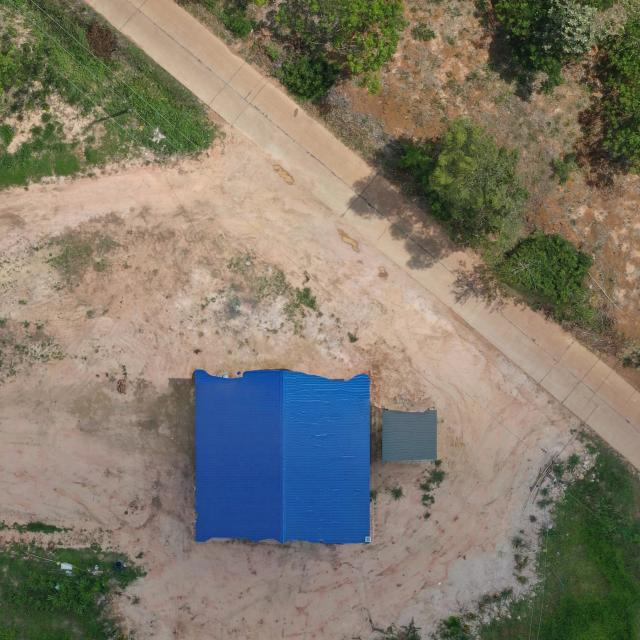Tree: (274, 0, 409, 97), (426, 117, 520, 236), (488, 0, 598, 97), (497, 230, 595, 323), (598, 84, 640, 177), (596, 3, 640, 90)
